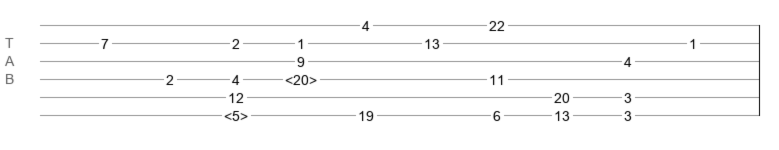1: (297, 36, 305, 46), (689, 36, 697, 46)
11: (489, 72, 505, 82)
12: (228, 90, 244, 100)
13: (424, 36, 440, 46), (554, 108, 570, 118)
19: (358, 108, 374, 118)
2: (166, 72, 174, 82), (232, 36, 240, 46)
20: (554, 90, 570, 100)
22: (489, 18, 505, 28)
3: (624, 108, 632, 118), (624, 90, 632, 100)
4: (232, 72, 240, 82), (362, 18, 370, 28), (624, 54, 632, 64)
6: (493, 108, 501, 118)
7: (101, 36, 109, 46)
9: (297, 54, 305, 64)
harmonic: (285, 72, 317, 82), (224, 108, 248, 118)
